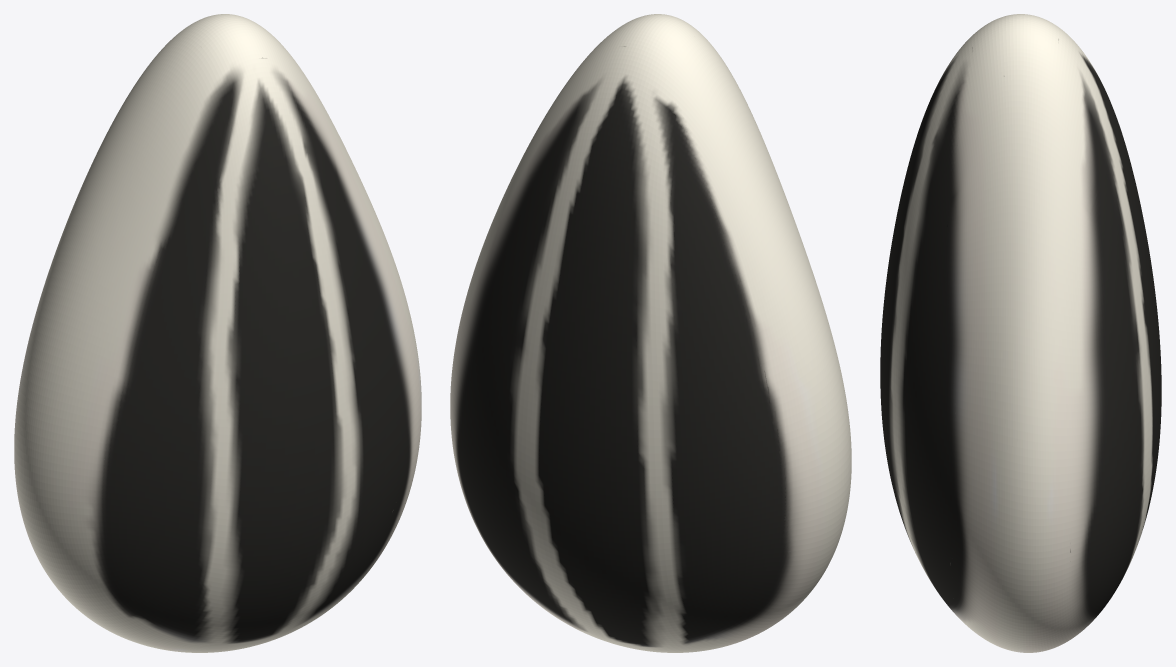
Rendered from sunflower seed.fbx.
The picture shows the model from 3 angles, left to right: view 1: azimuth 30°, elevation 25°; view 2: azimuth 150°, elevation 25°; view 3: azimuth 270°, elevation 25°; orthographic projection. The views are drawn at different scales.
Parts seen in each view (by area): view 1: Quad Sphere; view 2: Quad Sphere; view 3: Quad Sphere.
Part boxes in pixels (box(x1,y1,x2,y2)): Quad Sphere: box(14, 14, 421, 652); Quad Sphere: box(450, 14, 851, 652); Quad Sphere: box(880, 14, 1161, 652).
Size of the model in its own units: 146 by 226 by 94.55.
